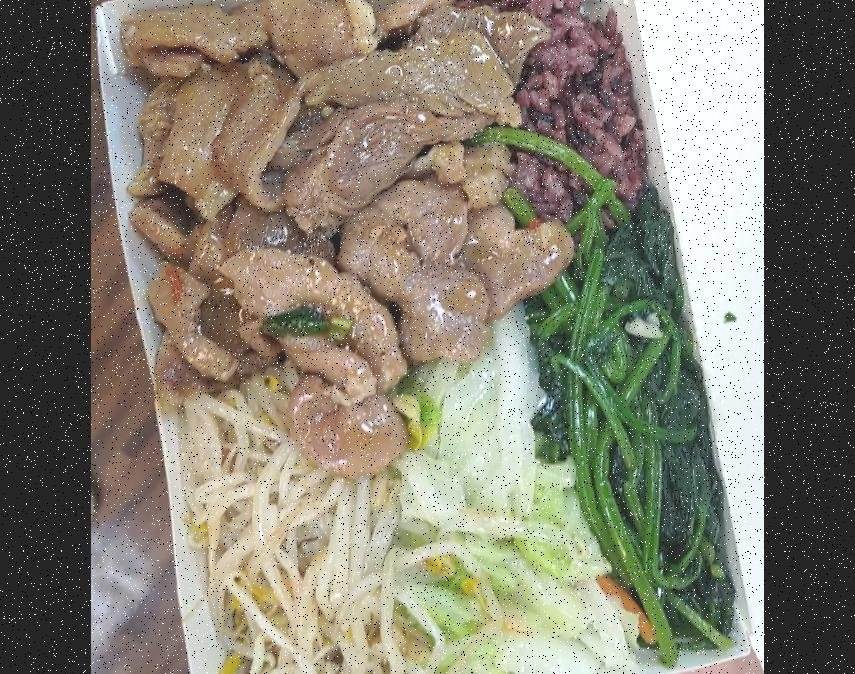big grilled chicken leg: (99, 0, 695, 674)
braised fish: (125, 0, 658, 353)
braised fish fillet: (517, 202, 740, 638), (395, 315, 611, 674), (190, 383, 451, 674)
braised pork: (113, 0, 553, 414)
